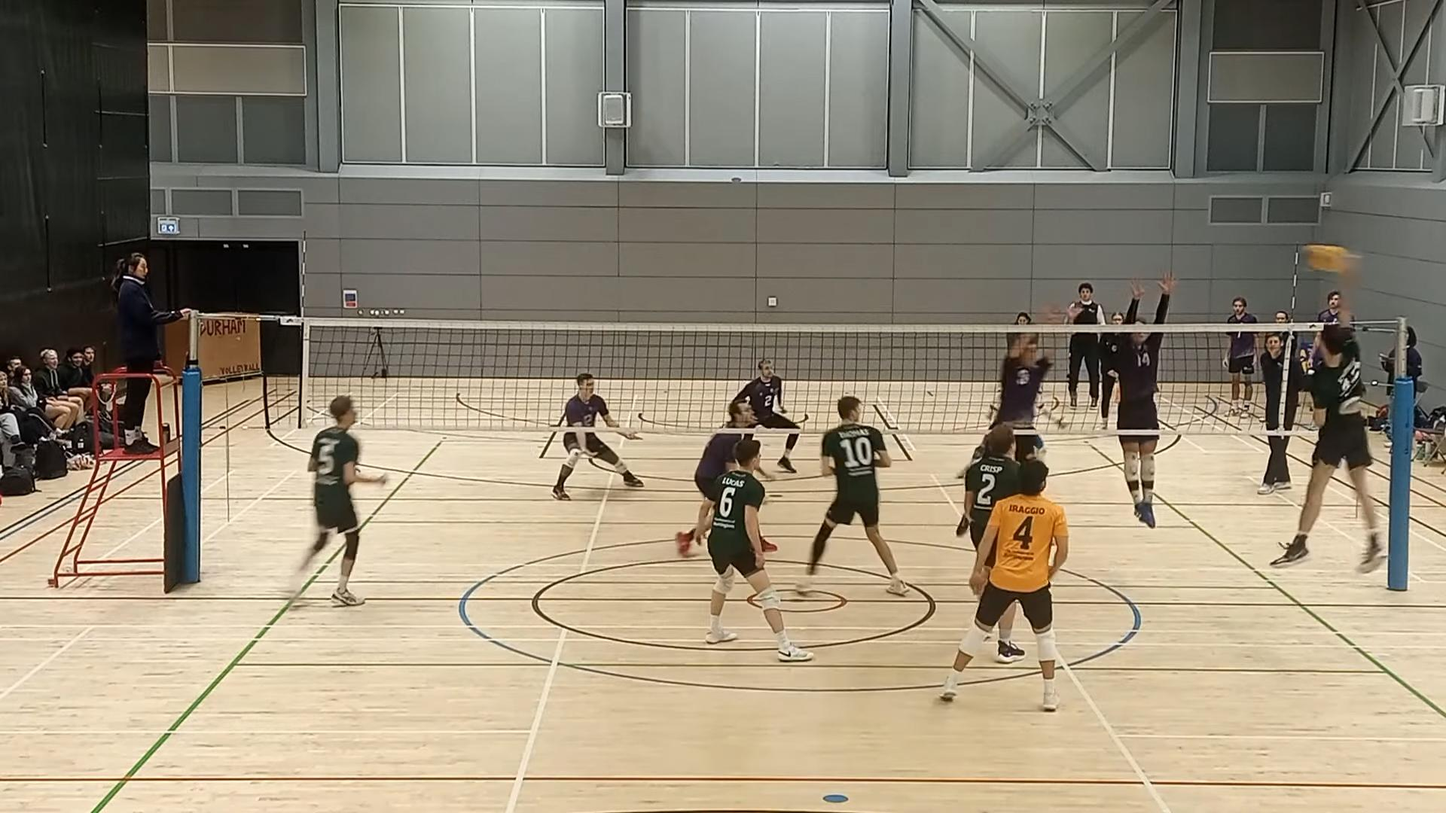attacco: (1270, 257, 1386, 576)
muro: (1108, 271, 1174, 535), (984, 291, 1081, 434)
